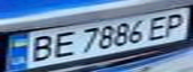6: (127, 16, 151, 45)
7: (75, 25, 100, 54)
8: (97, 21, 118, 51), (115, 19, 133, 47)
B: (21, 33, 57, 64)
E: (48, 29, 78, 60), (145, 12, 175, 41)
P: (160, 10, 190, 38)
